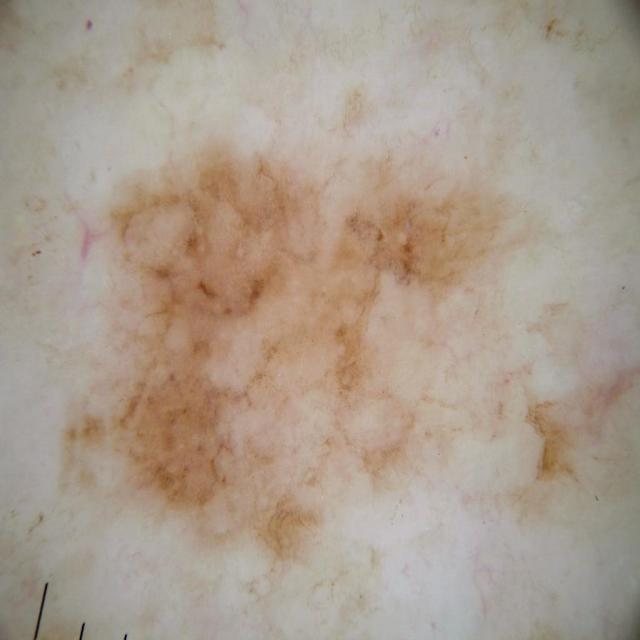Skin-Cancer Melanoma: (36, 26, 640, 621)
